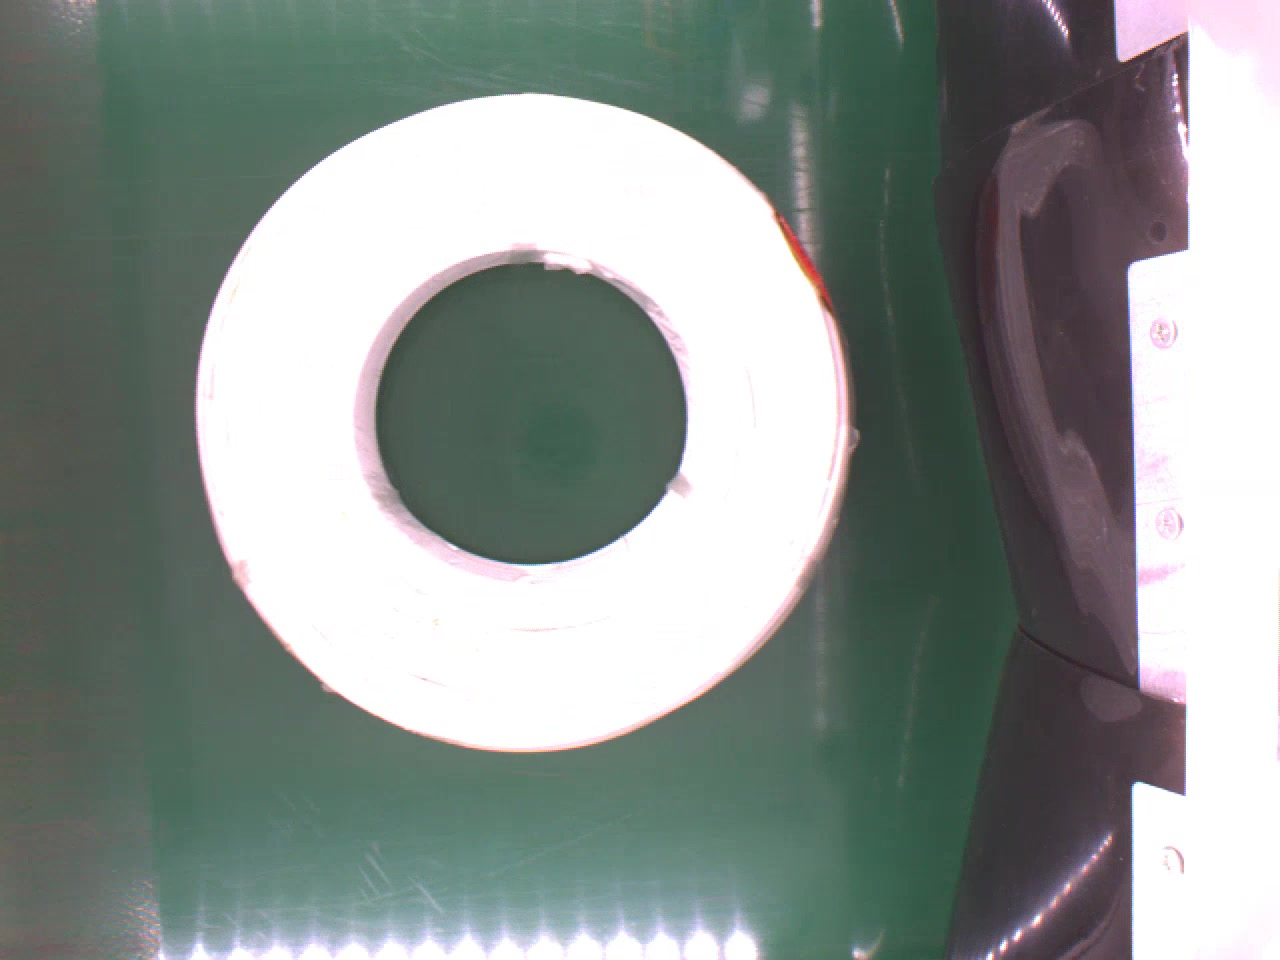white: (172, 84, 862, 758)
